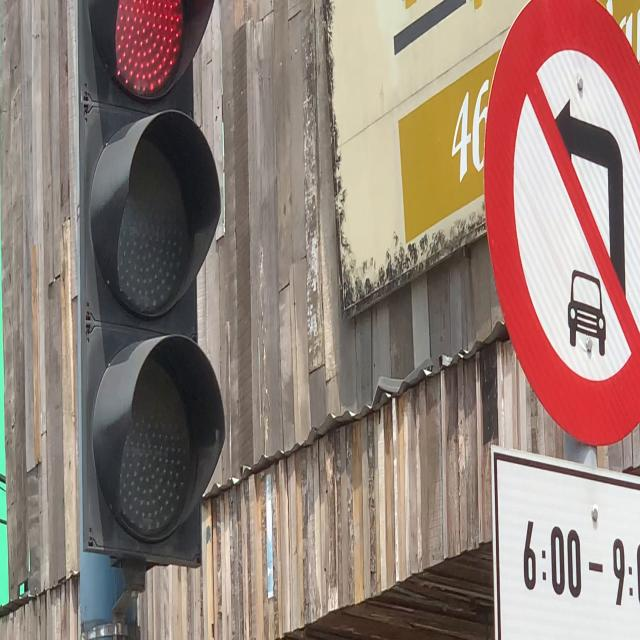Cam re trai: (481, 0, 640, 447)
